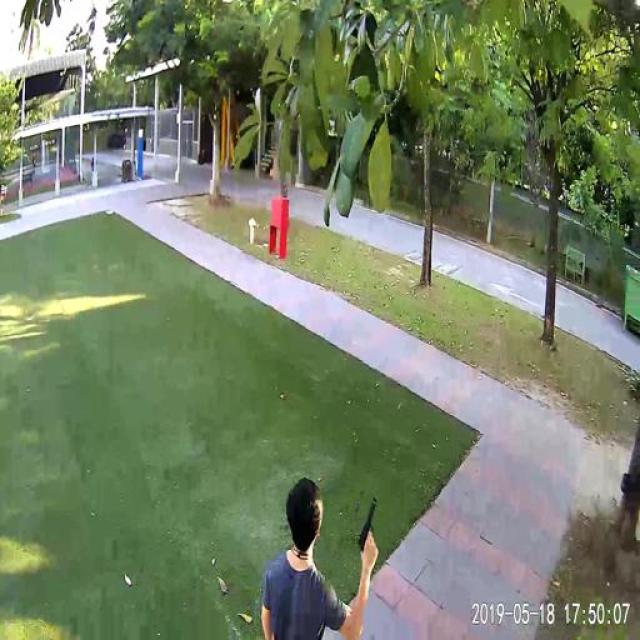senjata_api: (357, 494, 379, 554)
